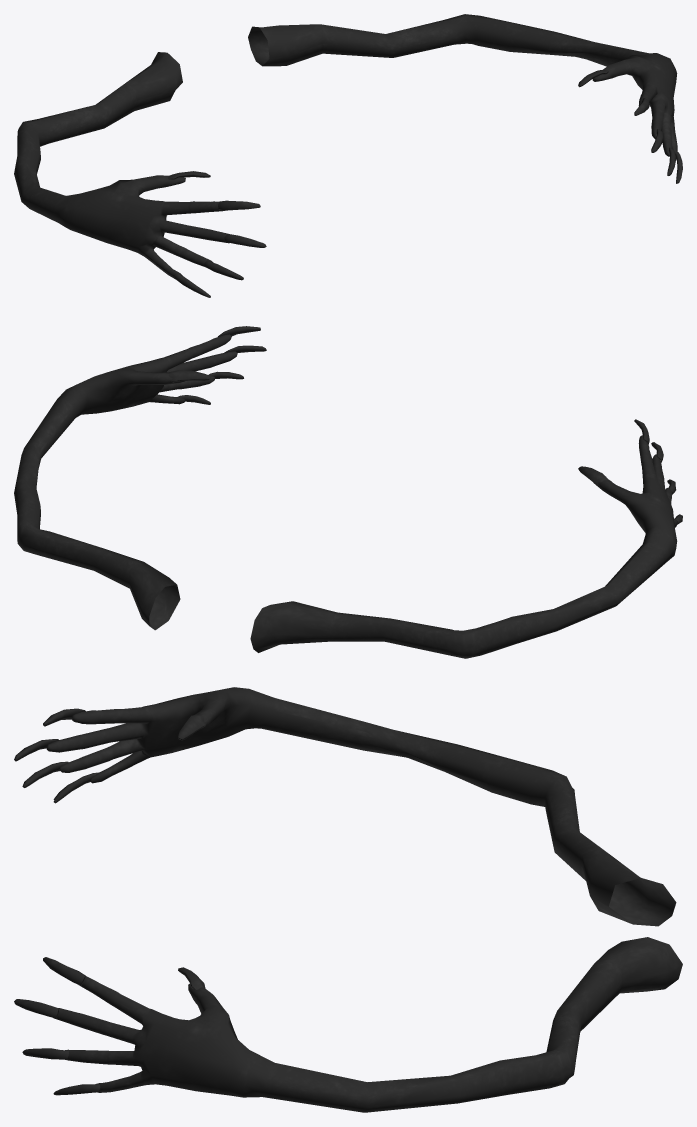
The model's file is Ghost2Handonly.fbx.
3 renders of one model, top to bottom at view 1: azimuth 30°, elevation 25°; view 2: azimuth 150°, elevation 25°; view 3: azimuth 270°, elevation 25°, orthographic. The views are drawn at different scales.
Parts seen in each view (by area): view 1: polySurface3, polySurface8; view 2: polySurface3, polySurface8; view 3: polySurface8, polySurface3.
Boxes of the visible parts, x1,y1,x2,y2 form: polySurface3: [14, 52, 266, 297]; polySurface8: [248, 14, 682, 183]; polySurface3: [250, 419, 682, 658]; polySurface8: [14, 326, 266, 630]; polySurface8: [14, 937, 682, 1112]; polySurface3: [14, 687, 676, 926].
Bounding box in the file's own units: 2.21 × 0.3242 × 1.63.
